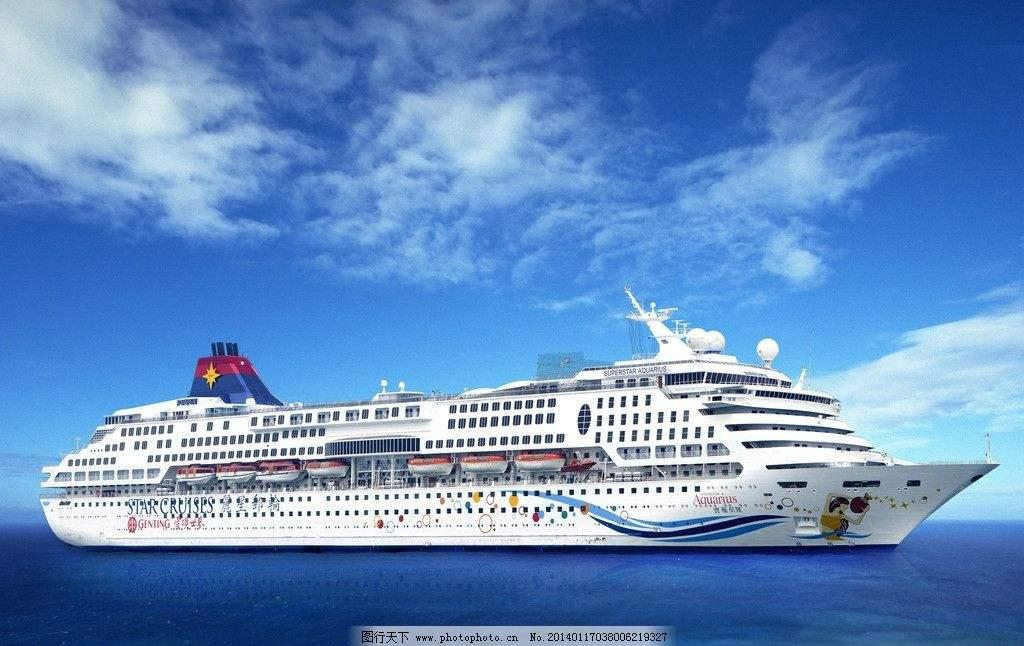youlun: (40, 316, 1010, 551)
